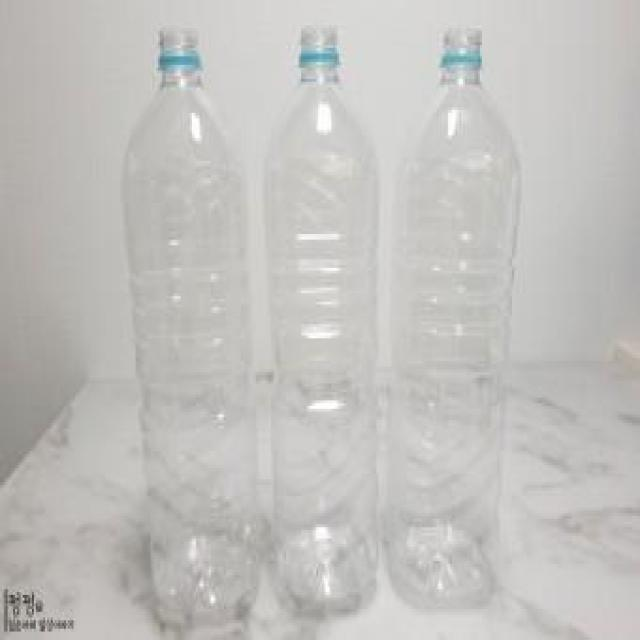bottle: (108, 26, 288, 633), (357, 21, 521, 631)
